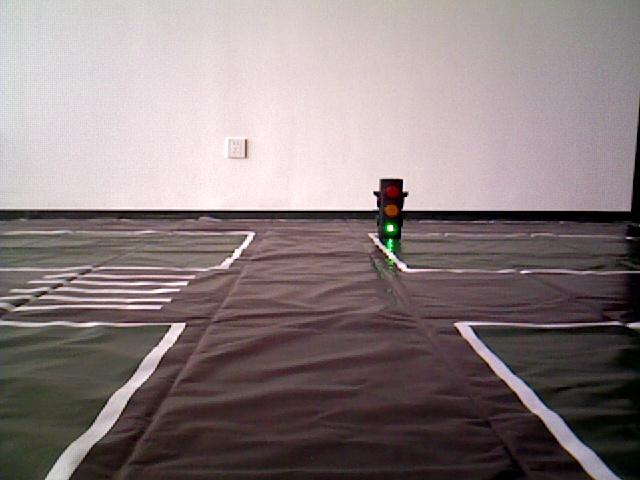green: (377, 177, 403, 236)
